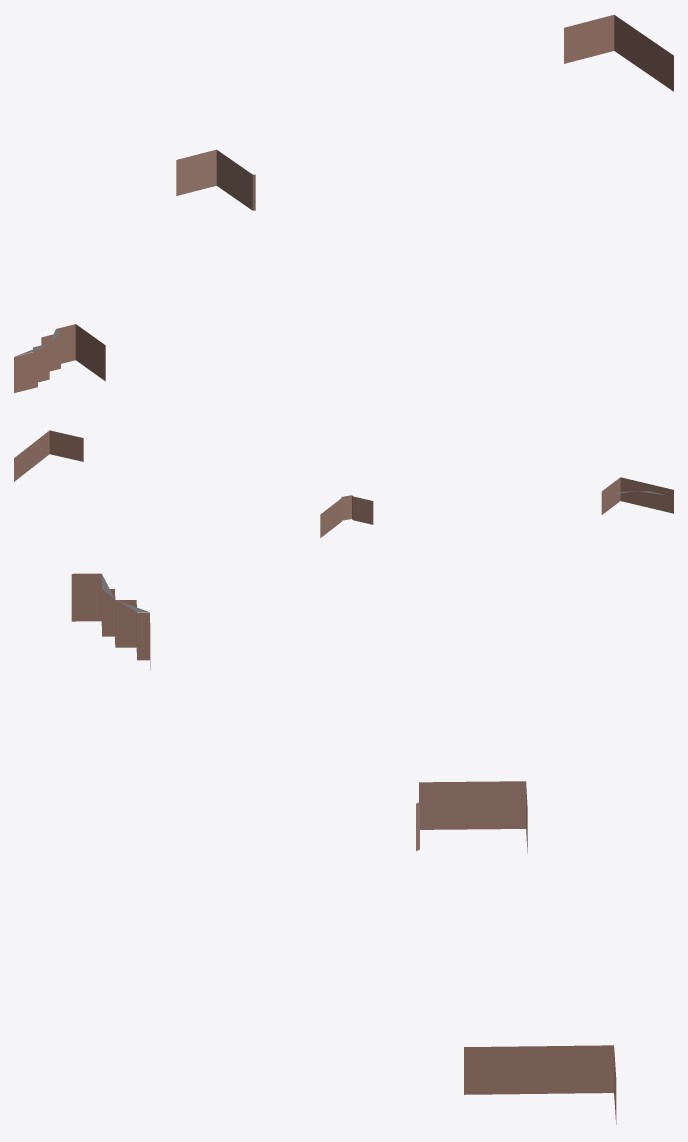
The model's file is c_1632_17830_buildings_residential.glb.
3 views of the same model, one above another, from view 1: azimuth 30°, elevation 25°; view 2: azimuth 150°, elevation 25°; view 3: azimuth 270°, elevation 25° (orthographic). The views are drawn at different scales.
Parts seen in each view (by area): view 1: geometry_0; view 2: geometry_0; view 3: geometry_0.
Part boxes in pixels (x1=…): geometry_0: x1=14, y1=15, x2=673, y2=392; geometry_0: x1=14, y1=430, x2=673, y2=537; geometry_0: x1=71, y1=573, x2=616, y2=1124.
Bounding box in the file's own units: 254 × 12.69 × 114.
